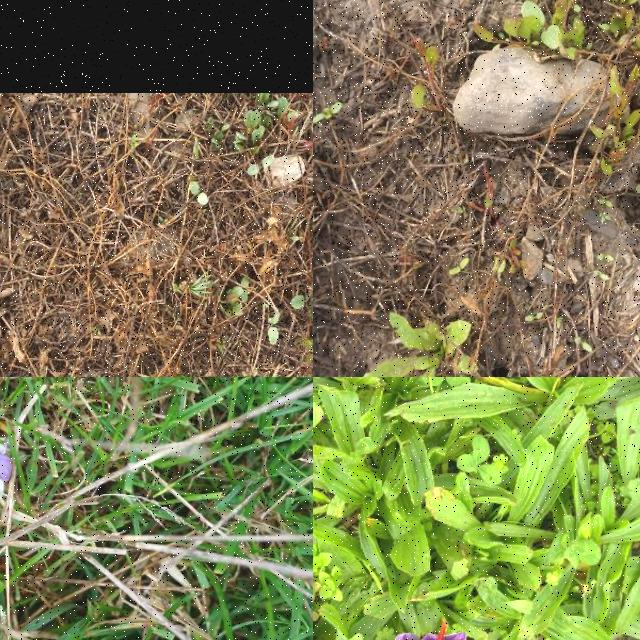flower: (380, 623, 467, 640), (0, 453, 12, 481)
